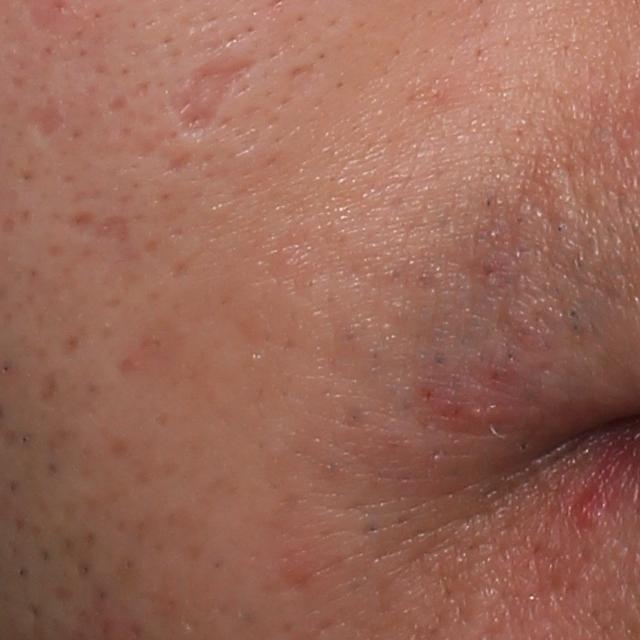atrophic_scar: (170, 58, 258, 137), (66, 209, 135, 243), (24, 100, 61, 138)
papule: (566, 482, 616, 530)
